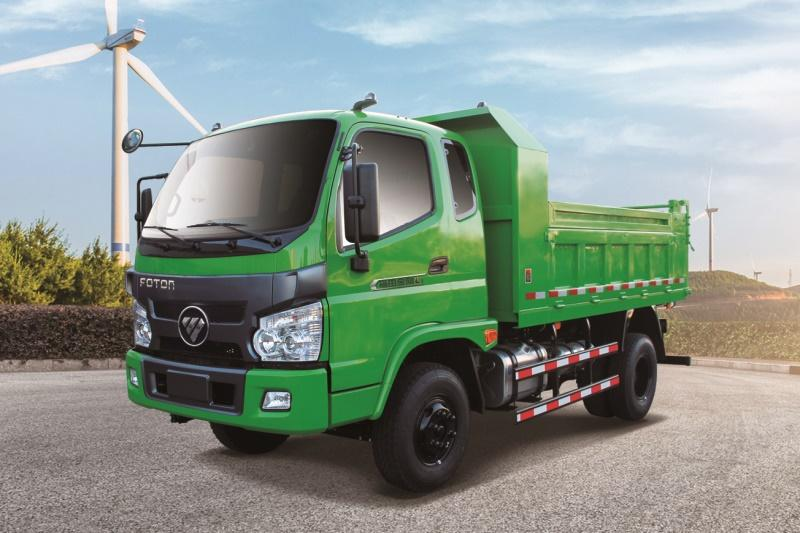truck: (121, 84, 698, 497)
